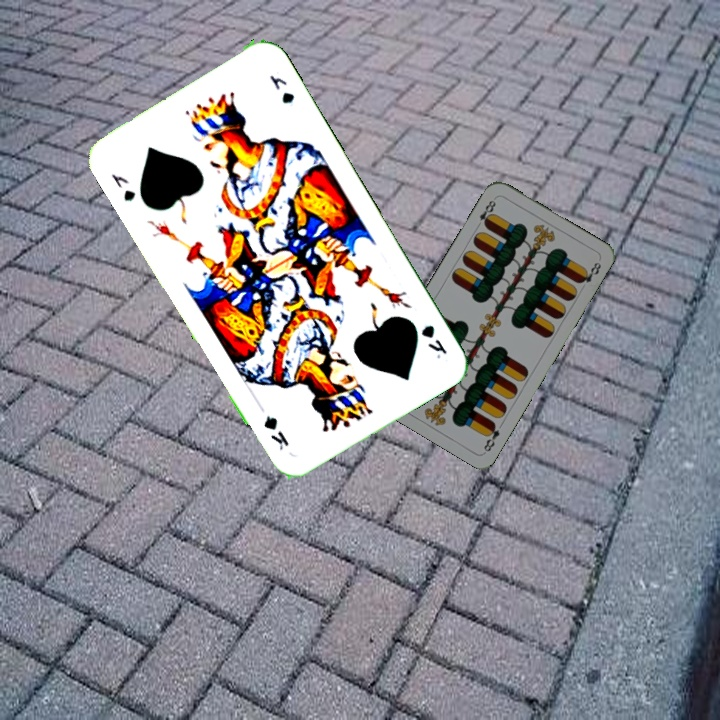E8: (472, 194, 499, 230), (479, 419, 502, 454)
GK: (417, 321, 450, 362), (107, 169, 138, 205)
